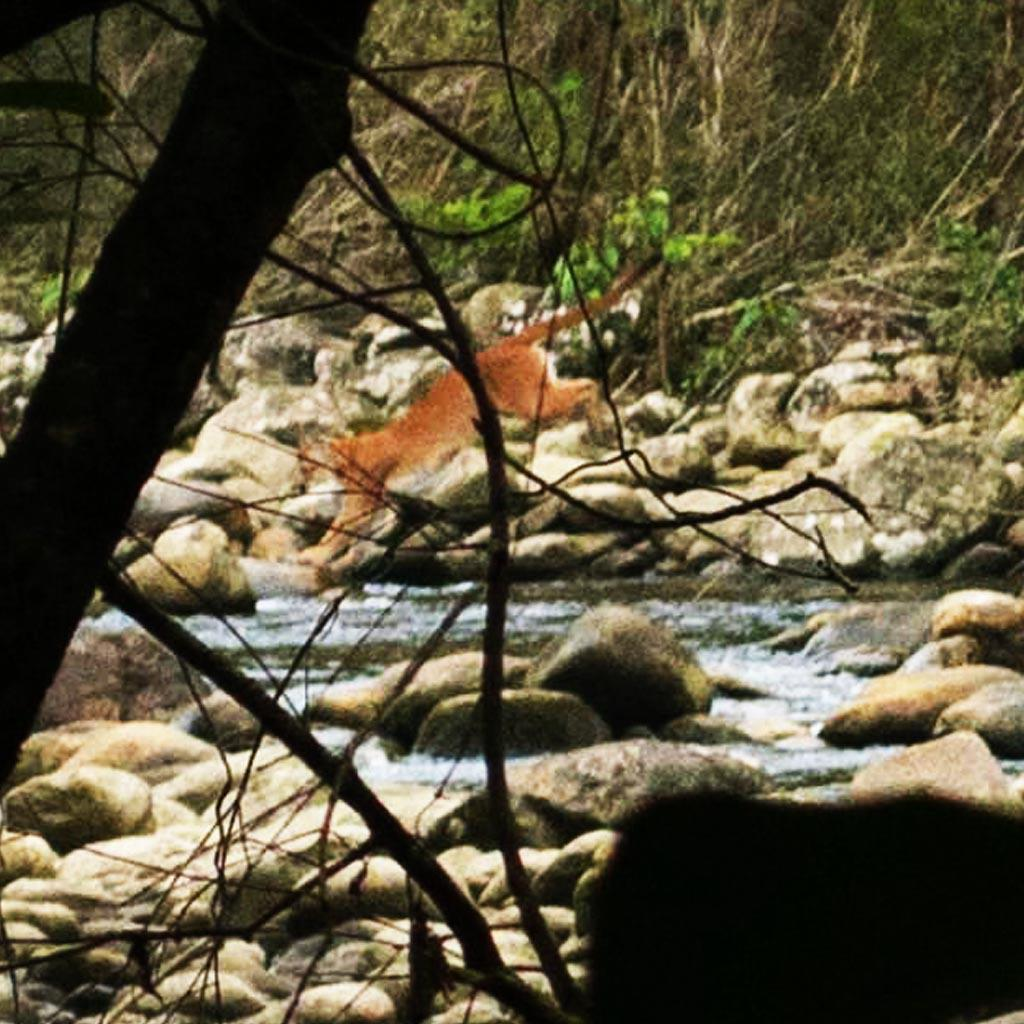OncaParda: (301, 284, 647, 584)
